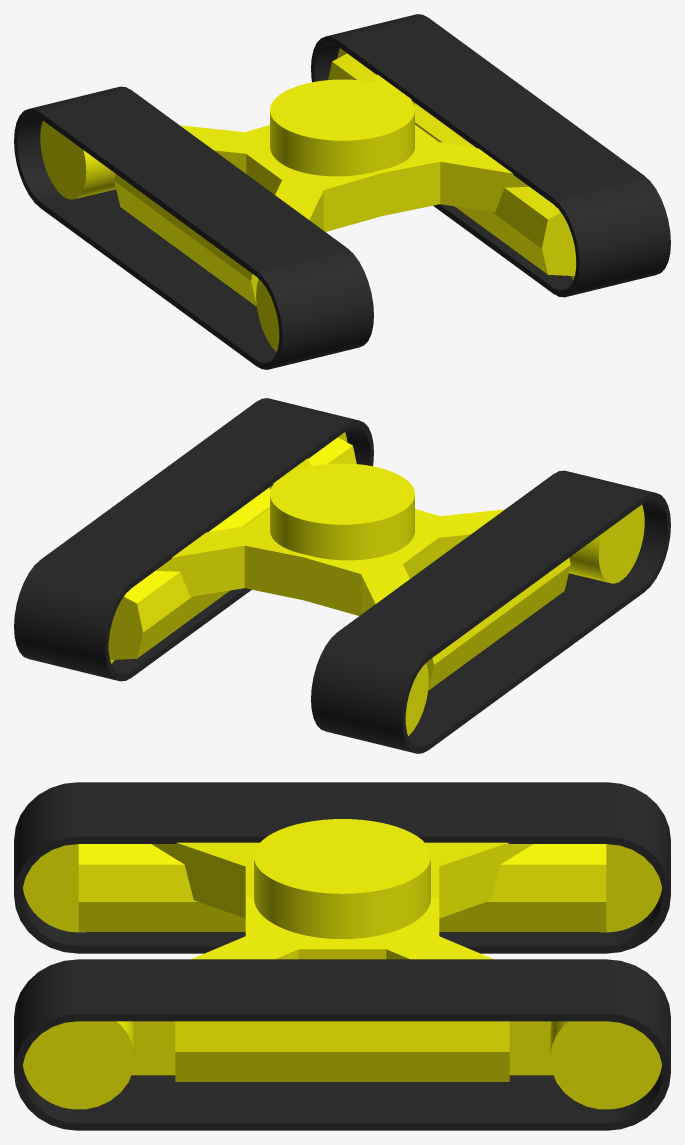
The model's file is track.glb.
3 views of the same model, one above another, from view 1: azimuth 30°, elevation 25°; view 2: azimuth 150°, elevation 25°; view 3: azimuth 270°, elevation 25° (orthographic). The views are drawn at different scales.
Visible parts, largest first — view 1: track_2[1]; view 2: track_2[1]; view 3: track_2[1].
Boxes of the visible parts, x1,y1,x2,y2 form: track_2[1]: [14, 14, 670, 369]; track_2[1]: [14, 398, 670, 753]; track_2[1]: [14, 782, 670, 1130].
Bounding box in the file's own units: 3.4 × 1.08 × 4.07.
